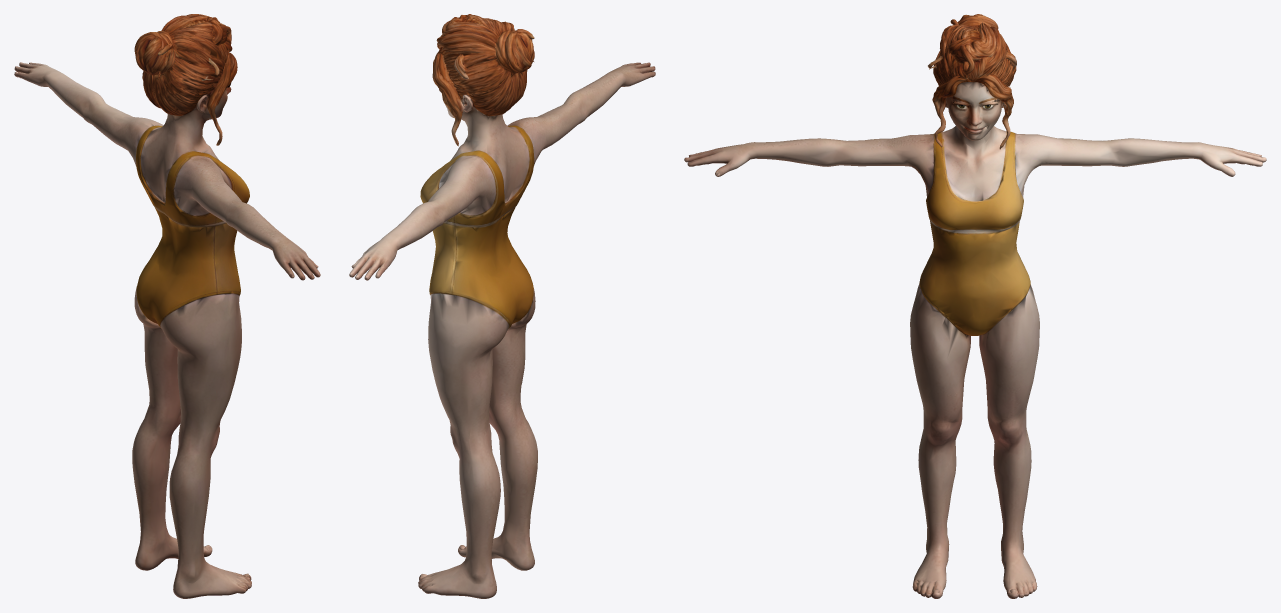
The model's file is the-cruiser.glb.
The picture shows the model from 3 angles, left to right: view 1: azimuth 30°, elevation 25°; view 2: azimuth 150°, elevation 25°; view 3: azimuth 270°, elevation 25°; orthographic projection.
Parts seen in each view (by area): view 1: the-cruiser; view 2: the-cruiser; view 3: the-cruiser.
Part boxes in pixels (bbox=[...]): the-cruiser: bbox=[14, 14, 320, 598]; the-cruiser: bbox=[349, 14, 655, 598]; the-cruiser: bbox=[684, 14, 1266, 598].
Bounding box in the file's own units: 0.1784 × 0.9794 × 0.9314.
1 material, 1 textured.
